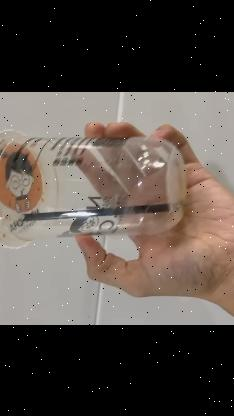Others: (0, 127, 189, 247)
